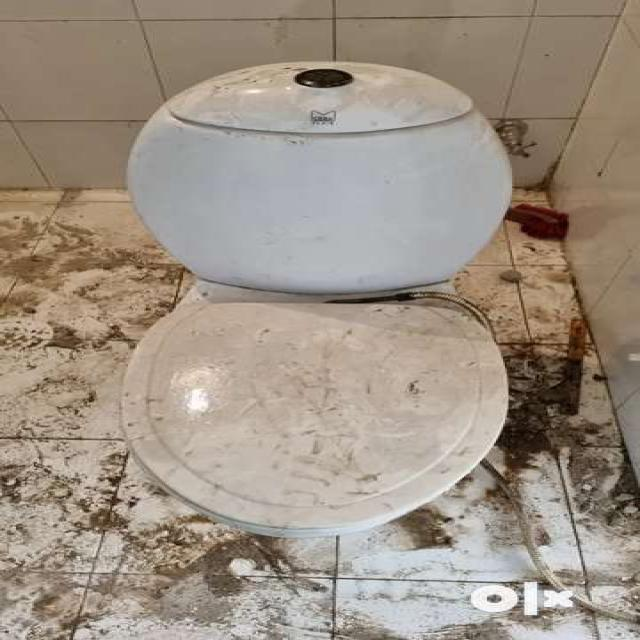damage: (118, 58, 518, 539)
dirty_floor: (0, 182, 639, 639), (0, 0, 639, 191)
